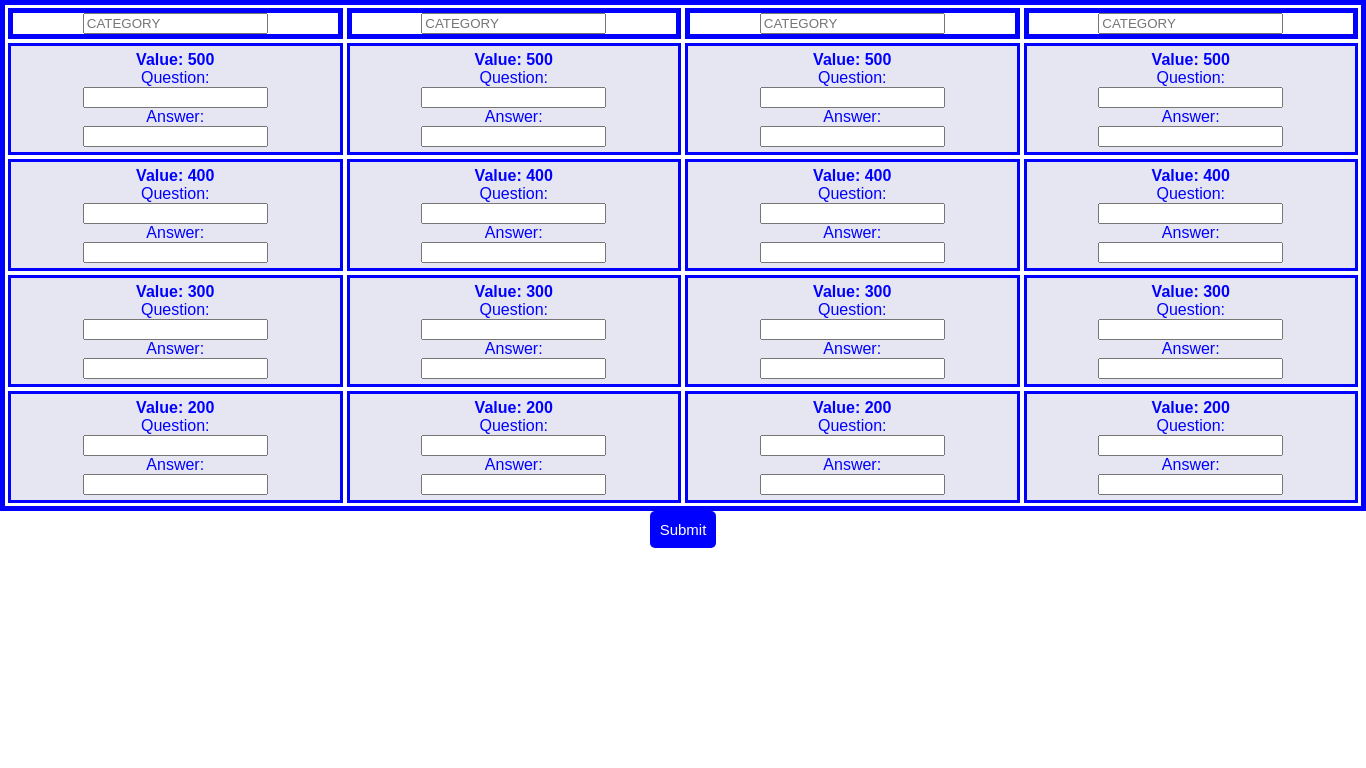
Main test for inputting questions and answering › Should fill in default values and given values
Type "Question 3" into the 11th field labelled "Question:" at (853, 330), box top-left (760, 319), bottom-right (945, 340)
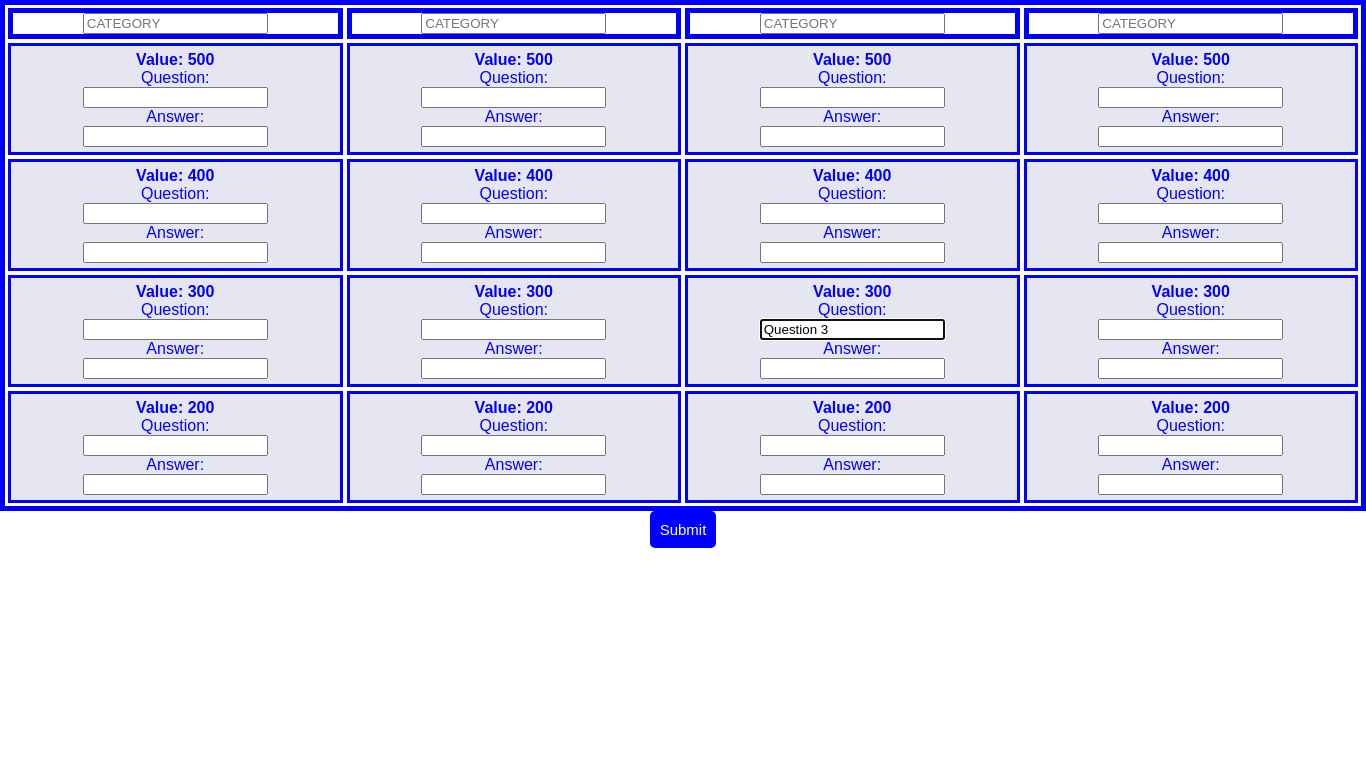
Type "Answer 3" into the 11th field labelled "Answer:" at (853, 369), box top-left (760, 358), bottom-right (945, 379)
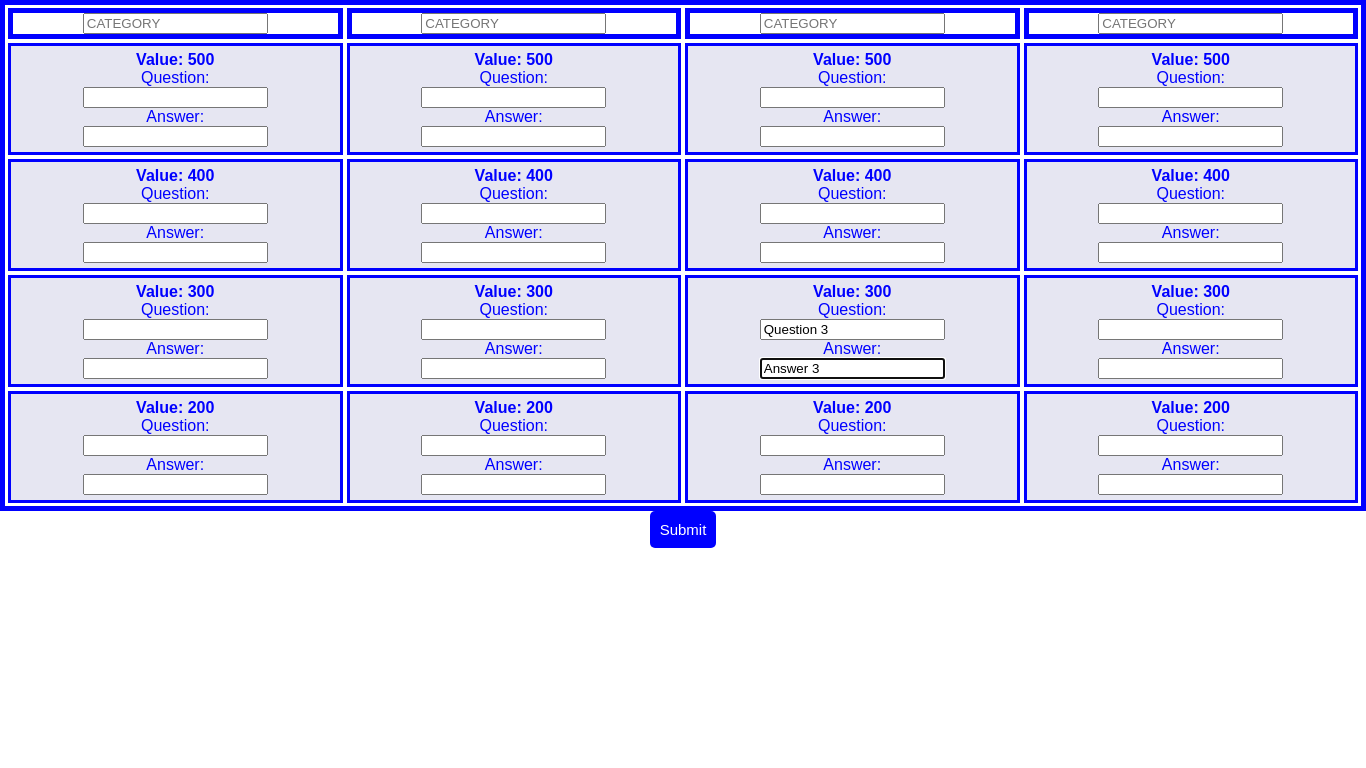
Click the button "Submit" at (684, 530), box top-left (650, 511), bottom-right (717, 548)
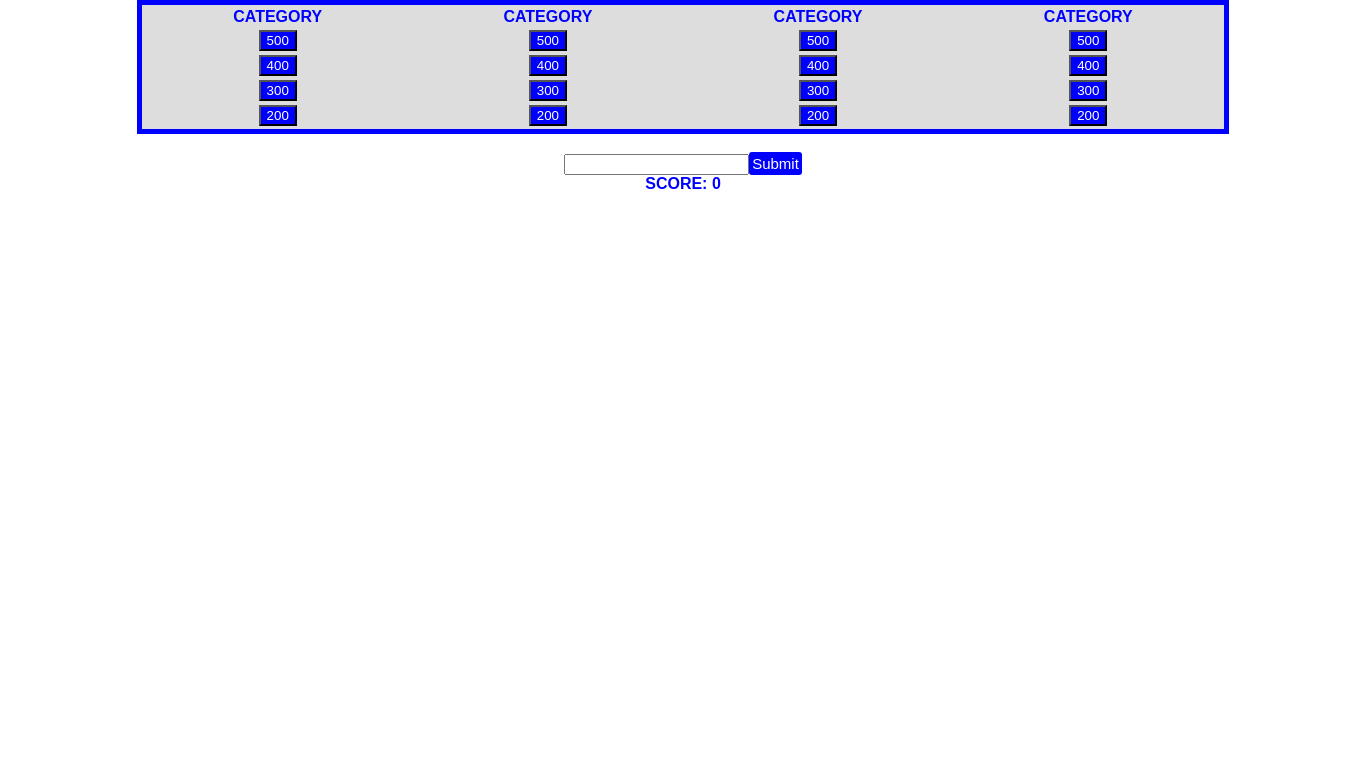
Click the 2nd button "400" at (548, 66), box top-left (529, 55), bottom-right (567, 76)
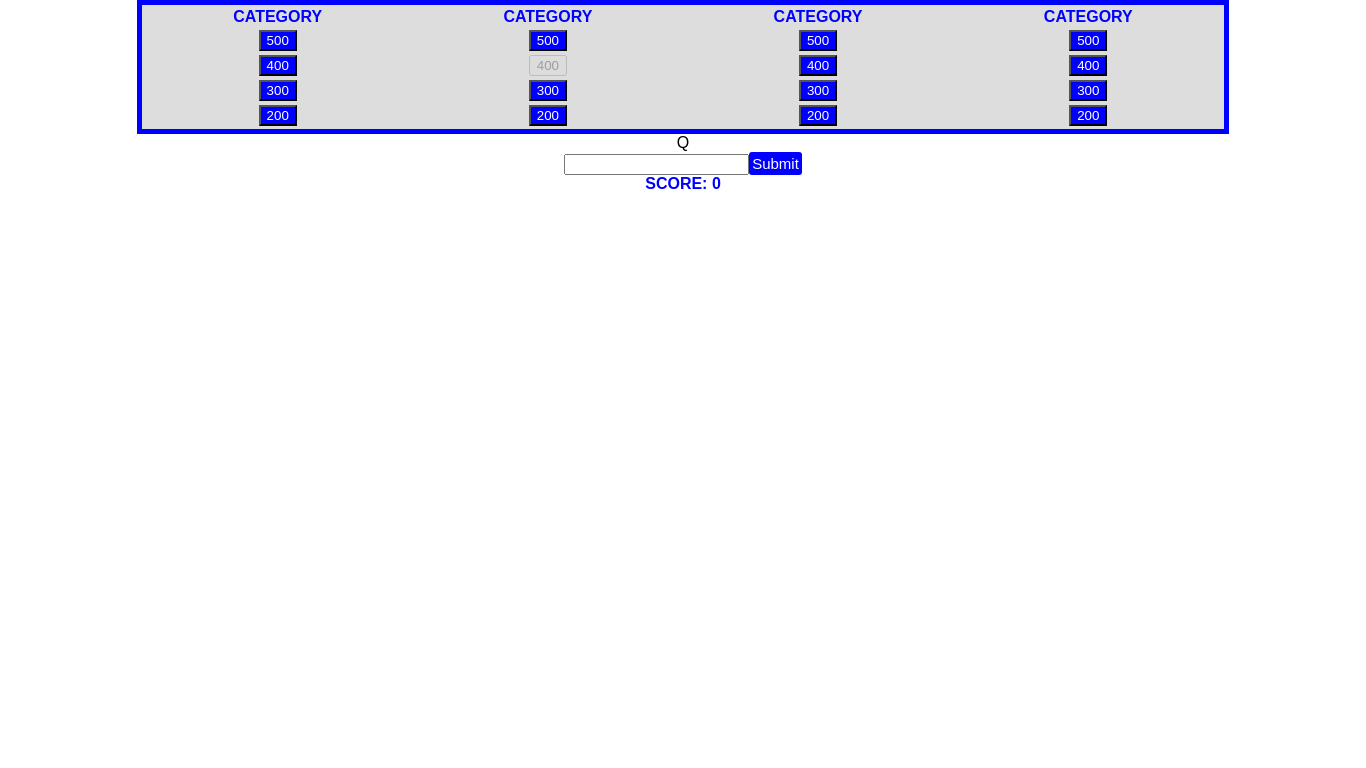
Expected: the text "Q" is shown, top-left (564, 134), bottom-right (802, 175)
Type "A" into the field at (657, 165), box top-left (564, 154), bottom-right (749, 175)
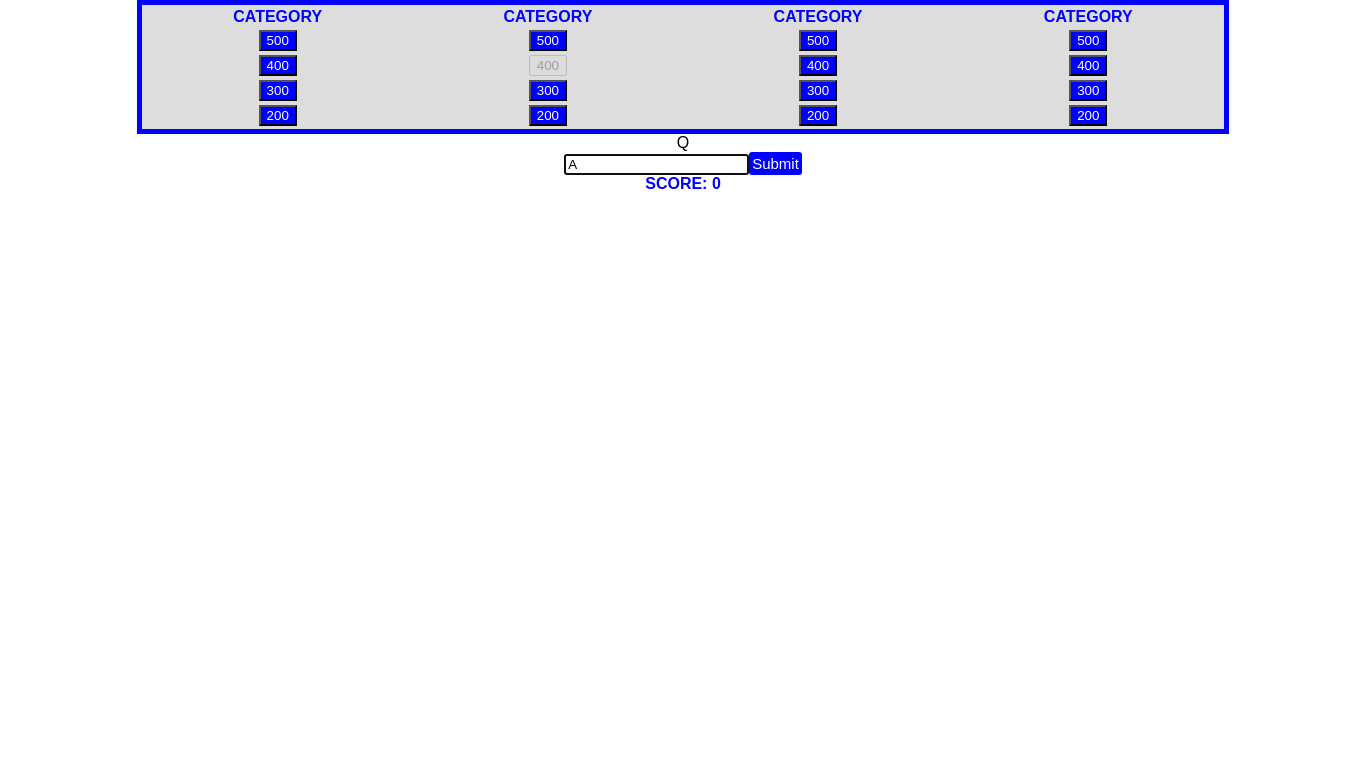
Click the submit button at (776, 164), box top-left (749, 152), bottom-right (802, 175)
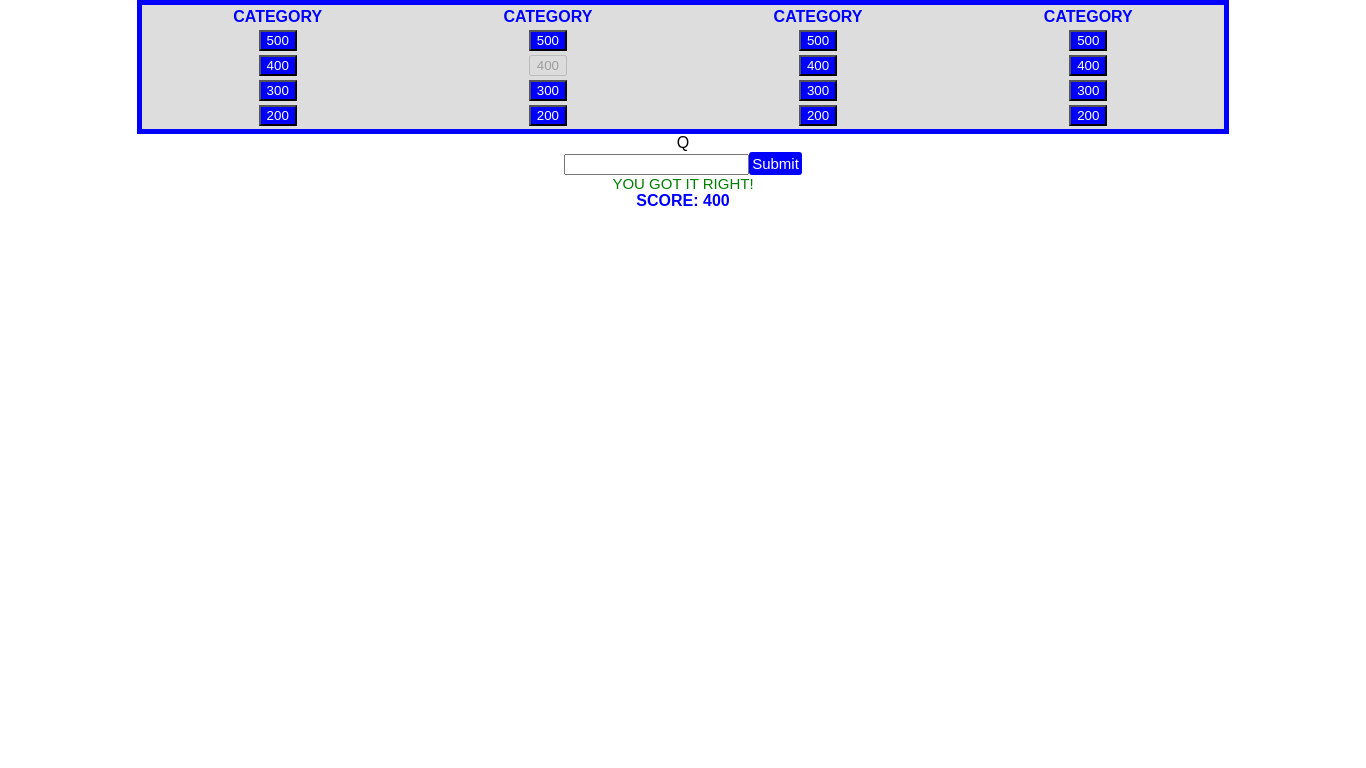
Expected: the text "YOU GOT IT RIGHT!" is shown, top-left (612, 175), bottom-right (754, 192)
